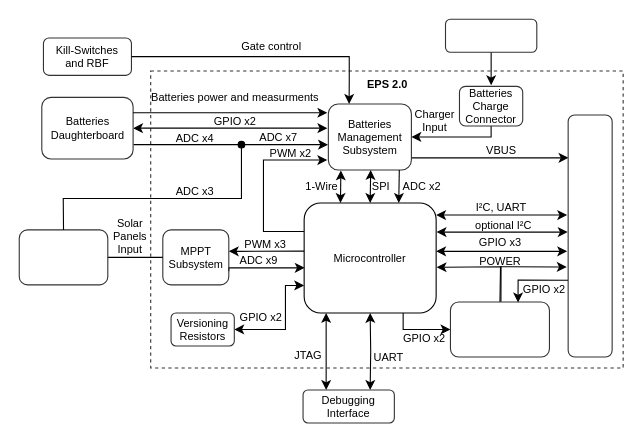
Some shapes in this 642 by 442 pixel diagram are drawn without their labels. The shapes that lost their labels are listed below. From the top down, each one's centre as x and y in pixels, then its label:
At point (490, 35): "External charger".
At point (589, 235): "PC104".
At point (63, 257): "Solar Panel Boards".
At point (499, 329): "Power Converters Subsystem".
